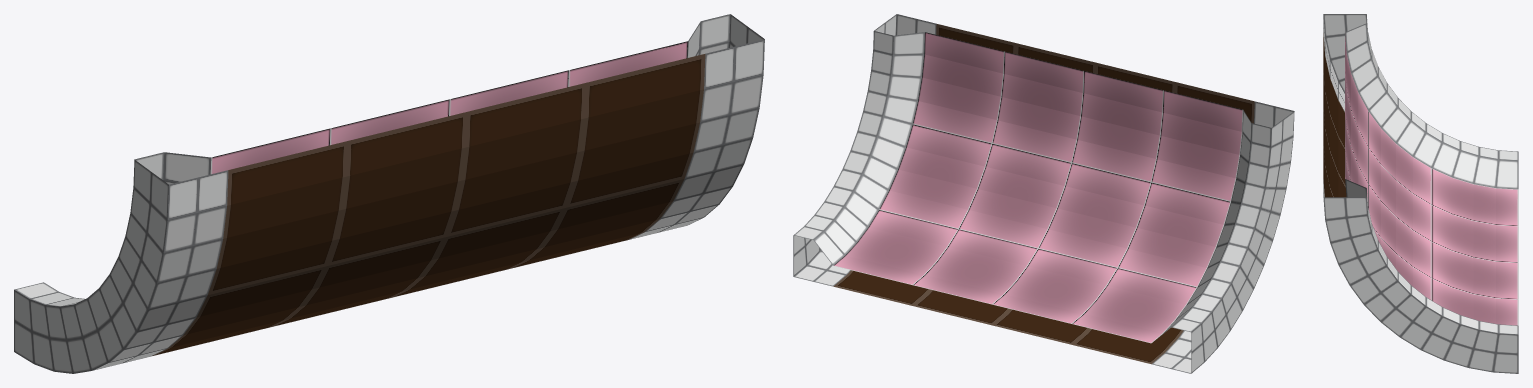
File: GravitationalismCurve1.obj
3 views of the same model, side by side, from view 1: azimuth 30°, elevation 25°; view 2: azimuth 150°, elevation 25°; view 3: azimuth 270°, elevation 25° (orthographic). The views are drawn at different scales.
Parts seen in each view (by area): view 1: GravitationalismCurve1; view 2: GravitationalismCurve1; view 3: GravitationalismCurve1.
Boxes of the visible parts, x1,y1,x2,y2 form: GravitationalismCurve1: [14, 14, 764, 373]; GravitationalismCurve1: [793, 14, 1294, 373]; GravitationalismCurve1: [1323, 14, 1518, 373].
Bounding box in the file's own units: 10 × 4.5 × 4.5.
